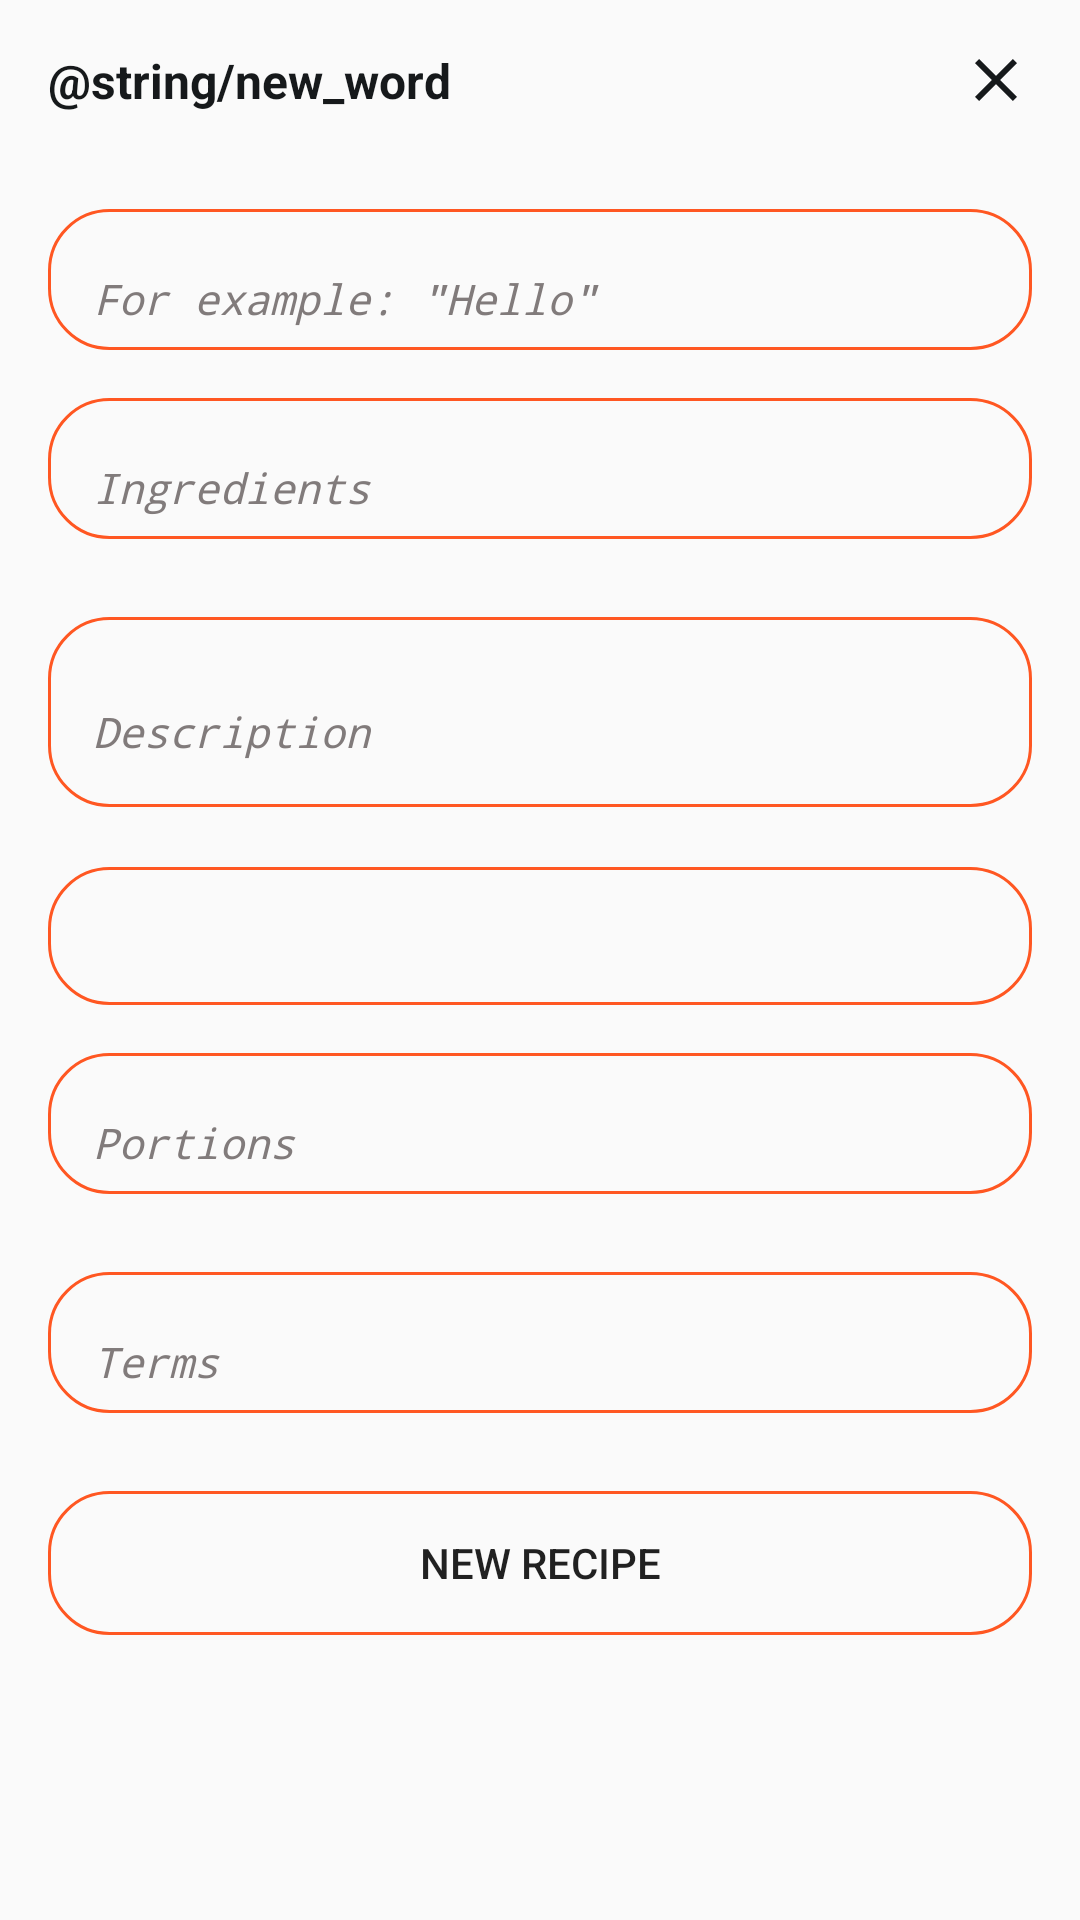

Icon bounding boxes for this 1080x1920 phone screenshot, format rect(x1, y1, x2, y2):
close: rect(975, 59, 1017, 101)
